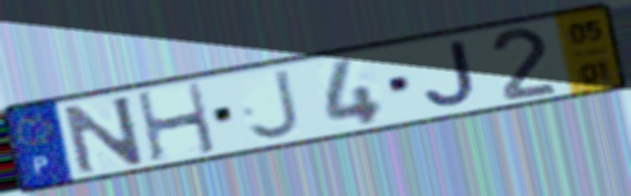2: (490, 24, 559, 102)
4: (320, 55, 388, 128)
H: (132, 79, 221, 165)
J: (245, 66, 305, 142), (421, 37, 479, 110)
N: (59, 92, 149, 178)
